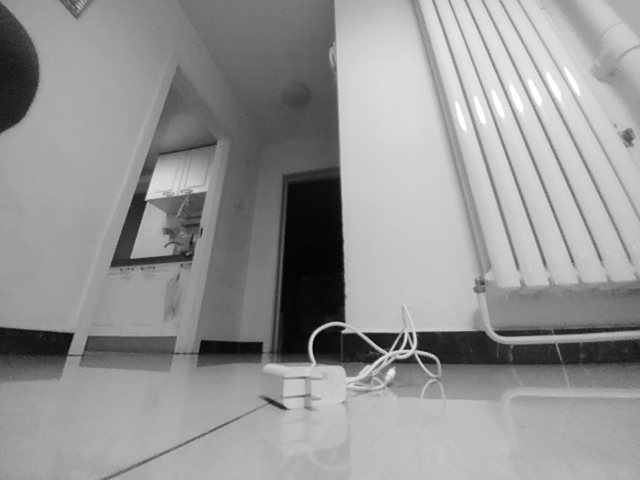wire: (309, 303, 444, 394)
